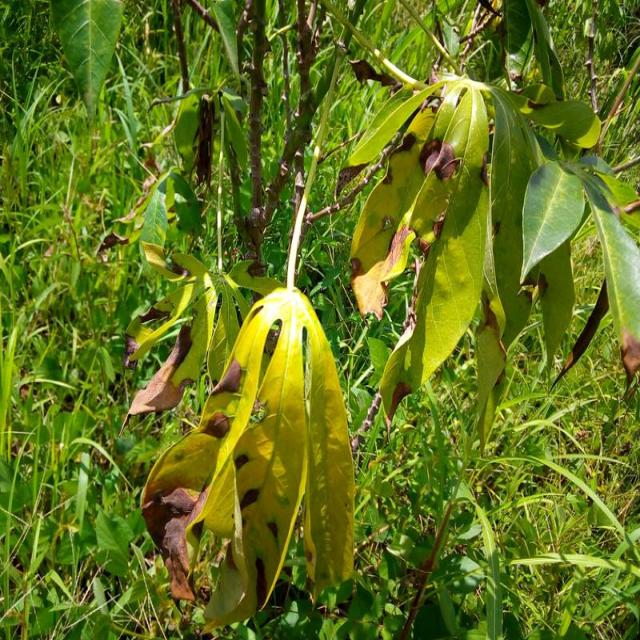cassava leaf: (140, 285, 356, 630), (349, 78, 491, 430)
